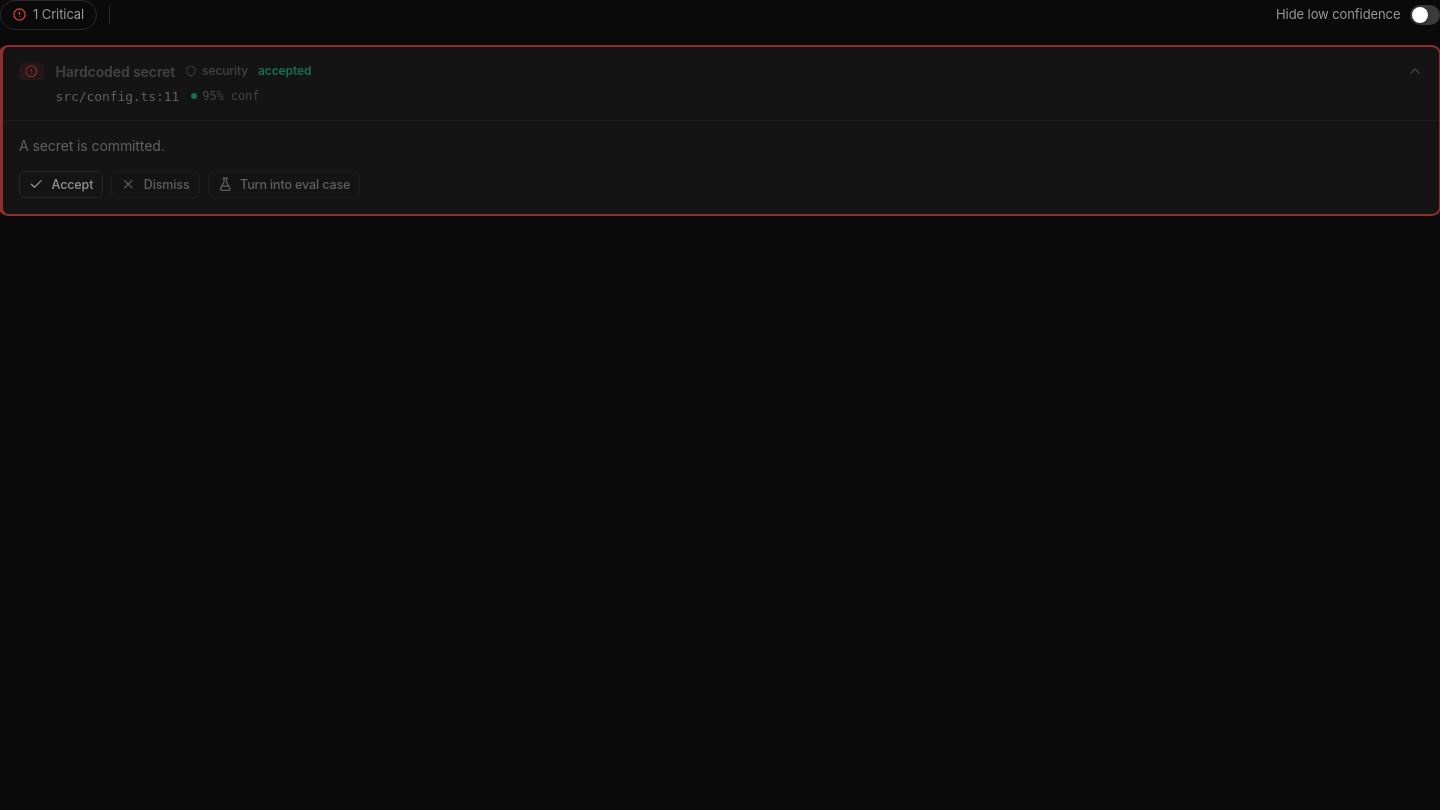
Test: FindingsPanel — turn into eval case opens the seeded editor › fetches the seed and opens the prefilled New-eval-case modal
Click the button "Turn into eval case": click(284, 184) [208,171,360,198]
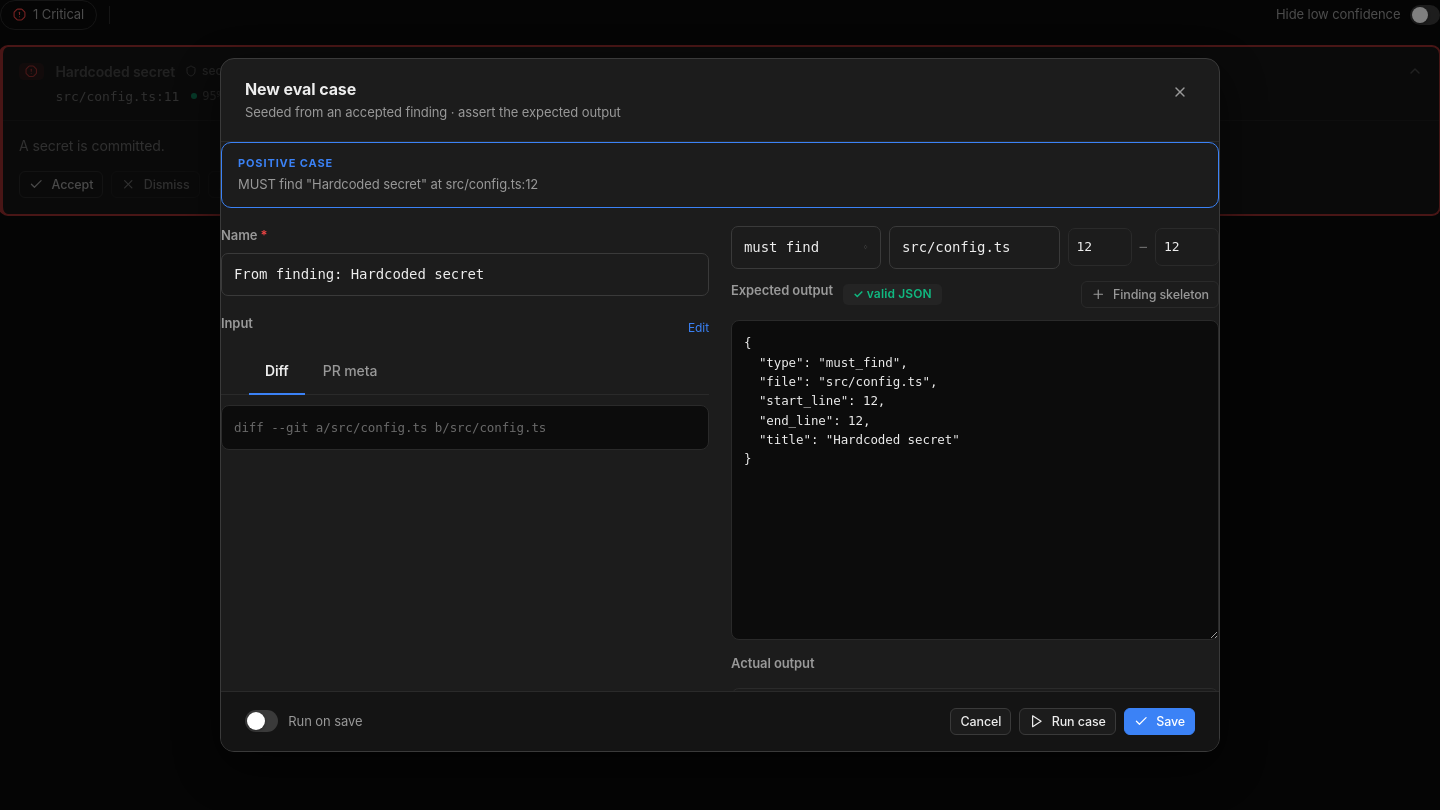
Check: the text "New eval case" is shown, box [245,79,356,99]
Check: the element with test id "seed-banner" is shown, box [221,142,1219,208]
Check: the field showing "From finding: Hardcoded secret" below "Name" is shown, box [234,264,696,285]
